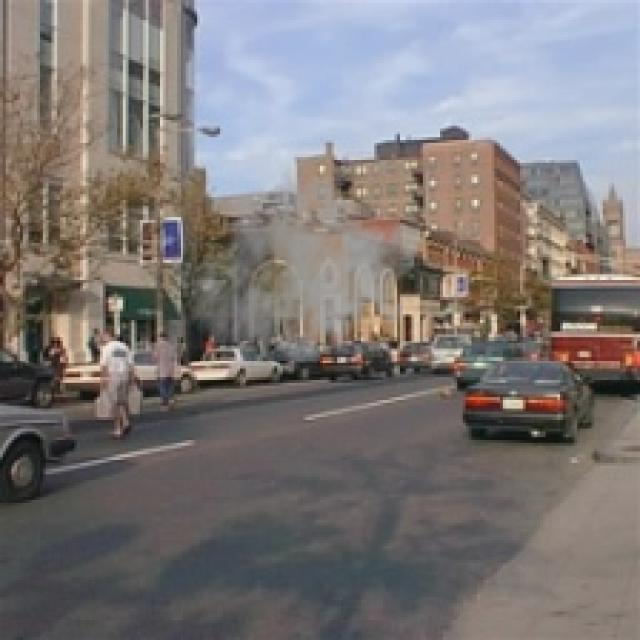smoke: (186, 166, 423, 383)
